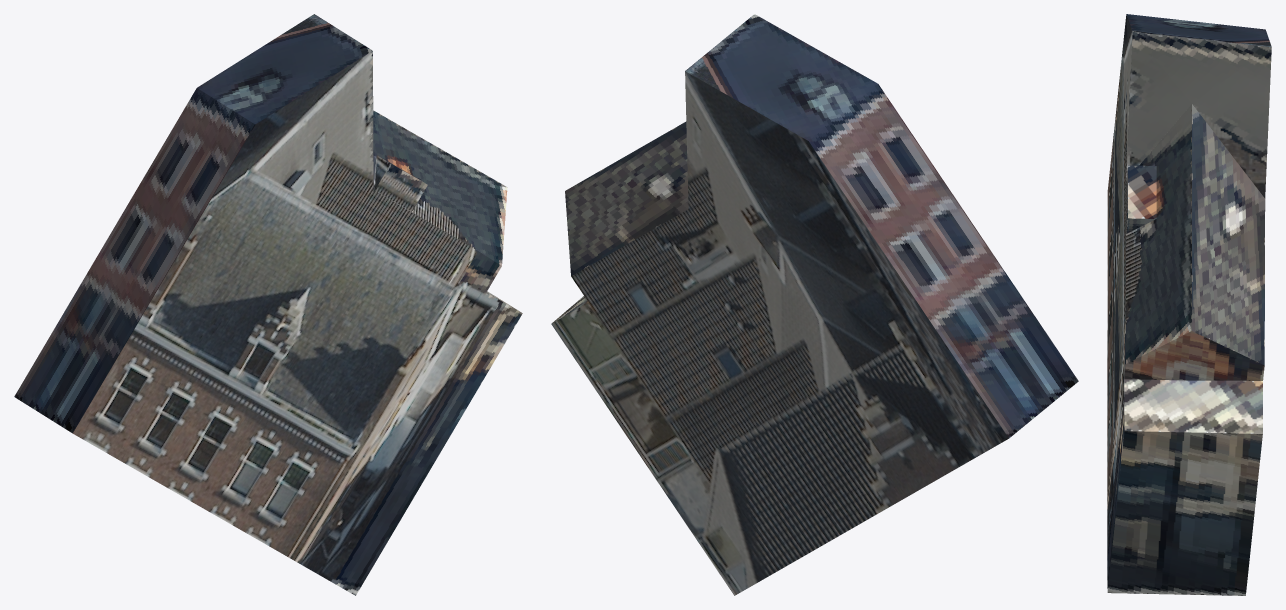
3 views of the same model, side by side, from view 1: azimuth 30°, elevation 25°; view 2: azimuth 150°, elevation 25°; view 3: azimuth 270°, elevation 25° (orthographic). The views are drawn at different scales.
Visible parts, largest first — view 1: BAG_0599100000671729 (×4); view 2: BAG_0599100000671729 (×2); view 3: BAG_0599100000671729 (×4).
Part boxes in pixels (x1,y1,x2,y2): BAG_0599100000671729 (×4): (14,14,522,595); BAG_0599100000671729 (×2): (551,14,1078,595); BAG_0599100000671729 (×4): (1107,14,1271,595).
Bounding box in the file's own units: 21.11 × 22.76 × 5.84.
5 materials, 5 textured.
